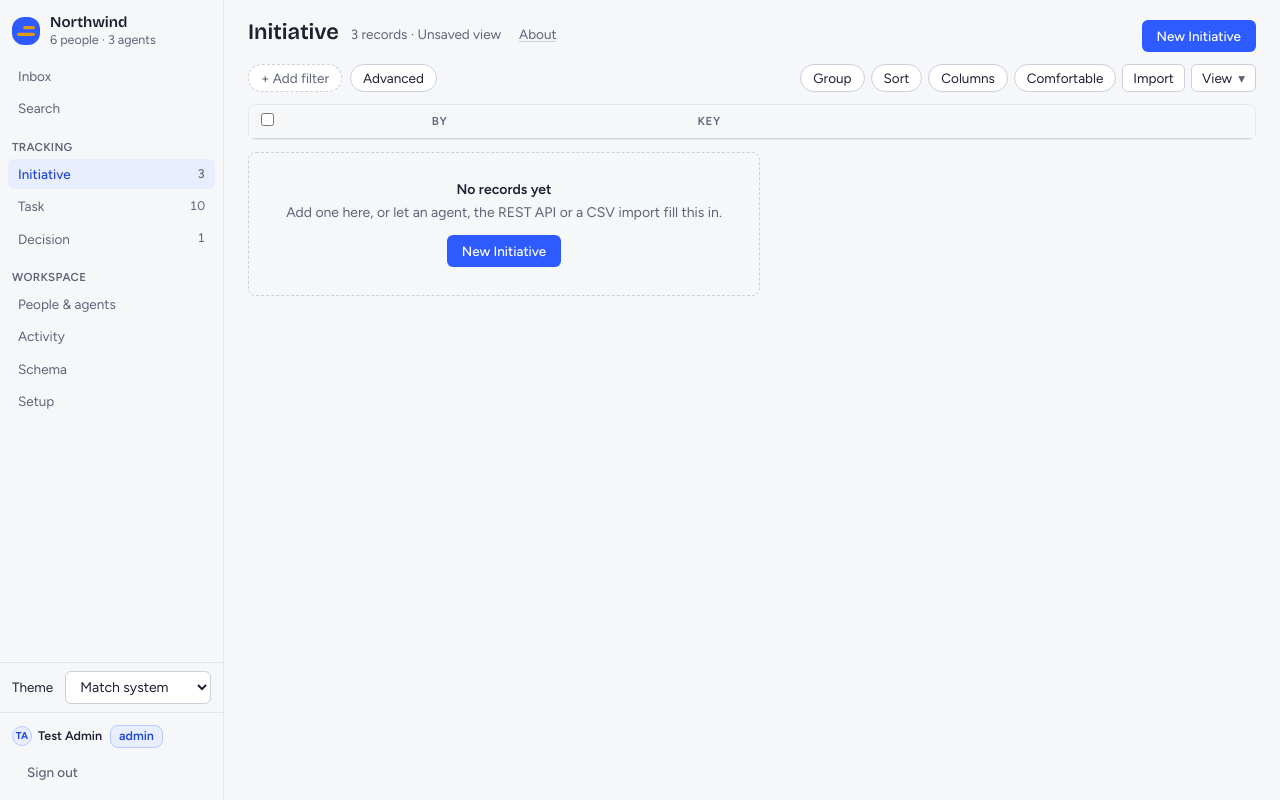
Test: App › redirects `/` to the first object type's route and shows its page shell
The width and height of the screenshot is (1280, 800).
Expected: the heading "Initiative" is shown, [248, 20, 339, 45]
Expected: the table with test id "records-table" is shown, [249, 105, 1255, 139]
Click the button with test id "about-toggle": (538, 34) [513, 23, 562, 45]
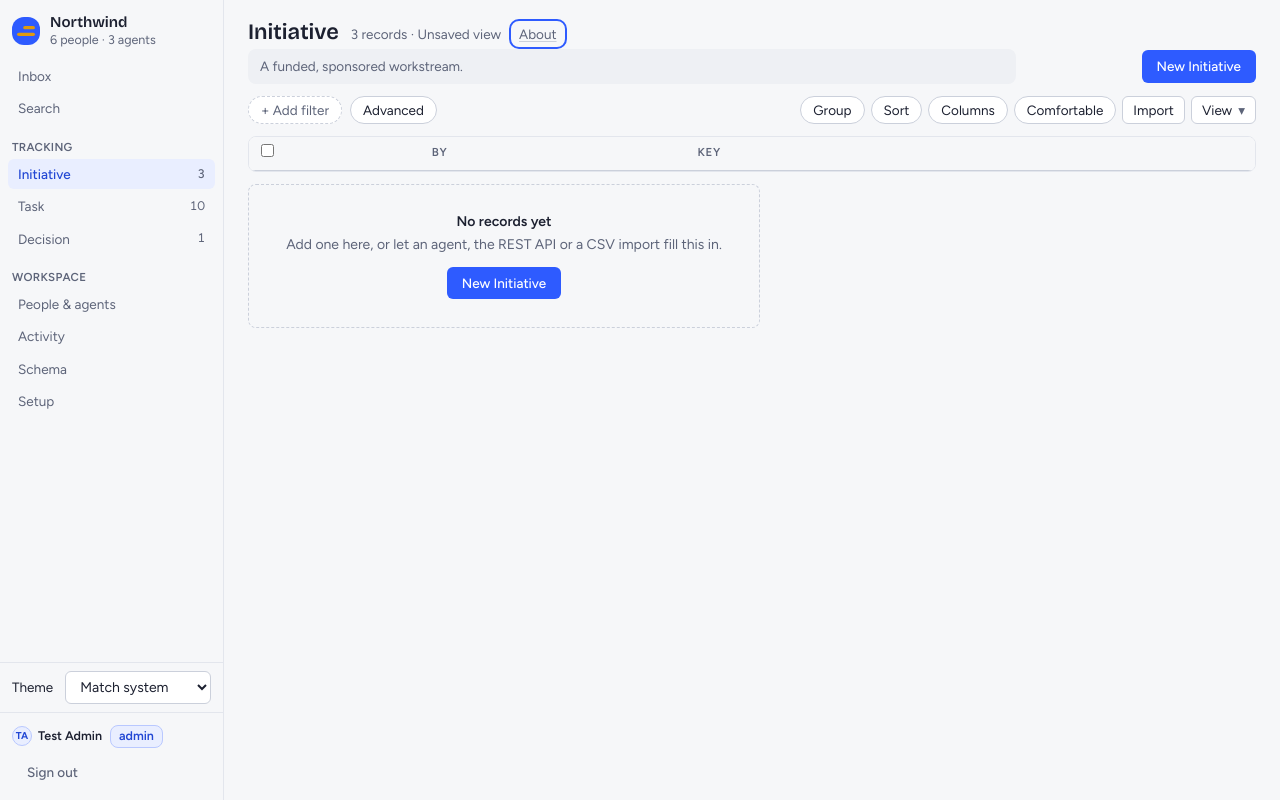
Expected: the text "A funded, sponsored workstream." is shown, [248, 49, 1016, 84]
